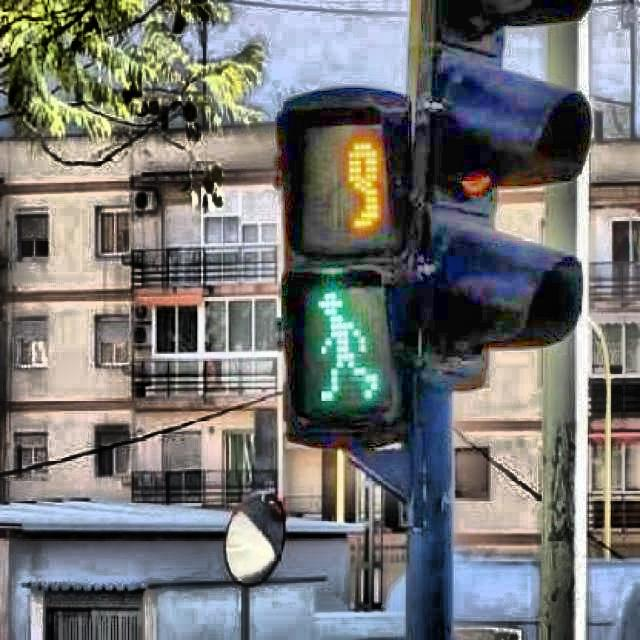semaforo pedestre: (225, 44, 507, 514), (292, 280, 395, 440)
